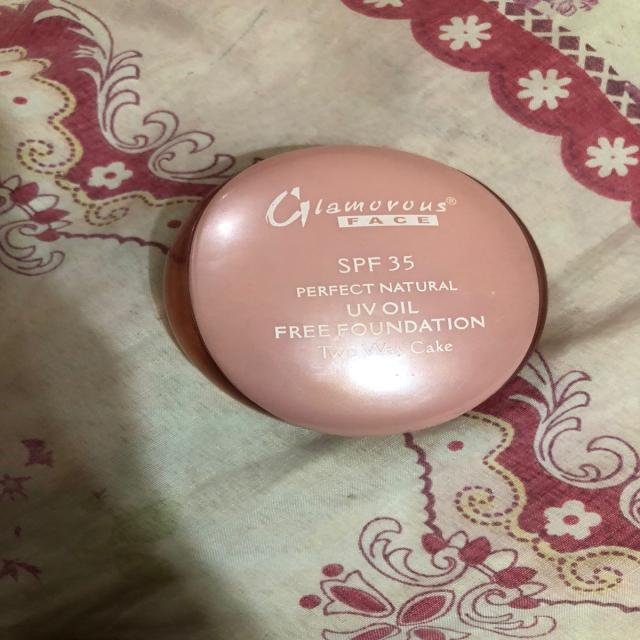powder: (166, 131, 546, 435)
